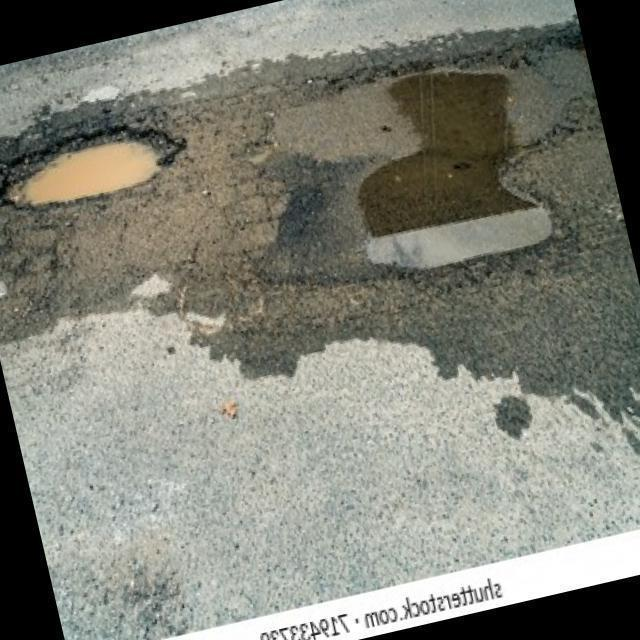pothole: (0, 106, 194, 221)
